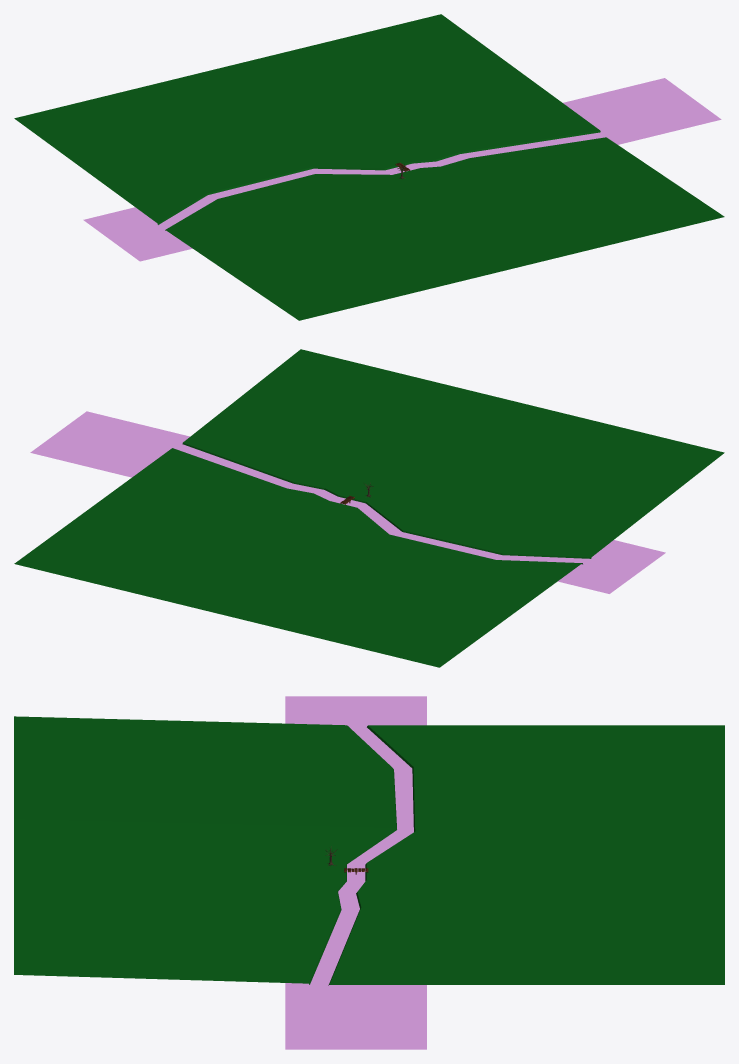
The model's file is terrain.glb.
3 renders of one model, top to bottom at view 1: azimuth 30°, elevation 25°; view 2: azimuth 150°, elevation 25°; view 3: azimuth 270°, elevation 25°, orthographic. The views are drawn at different scales.
Parts seen in each view (by area): view 1: Terrain; view 2: Terrain; view 3: Terrain.
Part boxes in pixels (left/top/right/bottom): Terrain: left=14, top=14, right=724, bottom=320; Terrain: left=14, top=349, right=724, bottom=667; Terrain: left=14, top=696, right=724, bottom=1049.
Size of the model in its own units: 172 by 4.57 by 147.
Materials: 1 (1 with a texture image).
